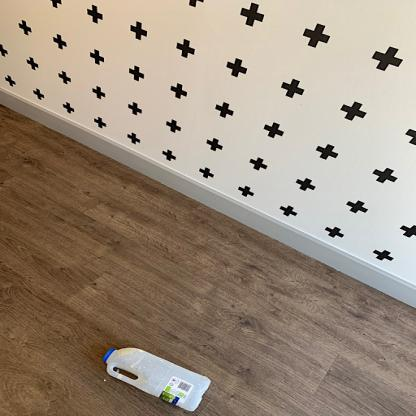trash: (102, 346, 212, 412)
